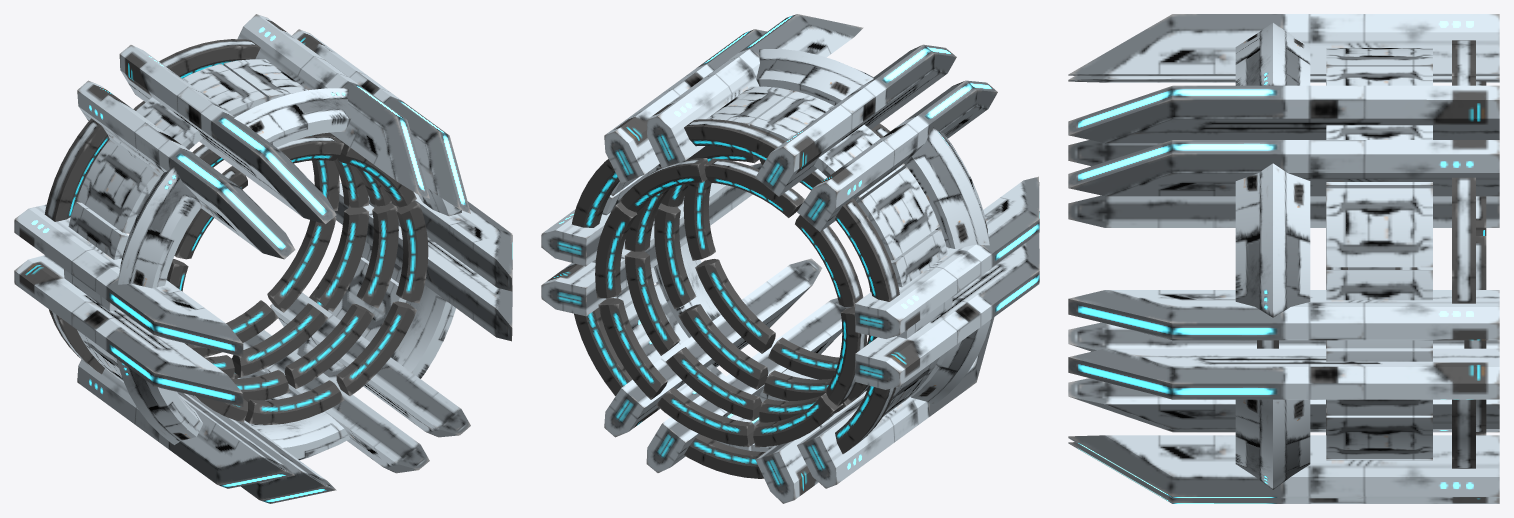
File: WarpGate5_sm.gltf
3 renders of one model, left to right at view 1: azimuth 30°, elevation 25°; view 2: azimuth 150°, elevation 25°; view 3: azimuth 270°, elevation 25°, orthographic. The views are drawn at different scales.
Visible parts, largest first — view 1: WarpGate05; view 2: WarpGate05; view 3: WarpGate05.
Boxes of the visible parts, x1,y1,x2,y2 form: WarpGate05: (14, 14, 512, 503); WarpGate05: (541, 14, 1039, 503); WarpGate05: (1068, 14, 1499, 503).
Bounding box in the file's own units: 53.3 × 52.42 × 47.38.
1 material, 1 textured.
